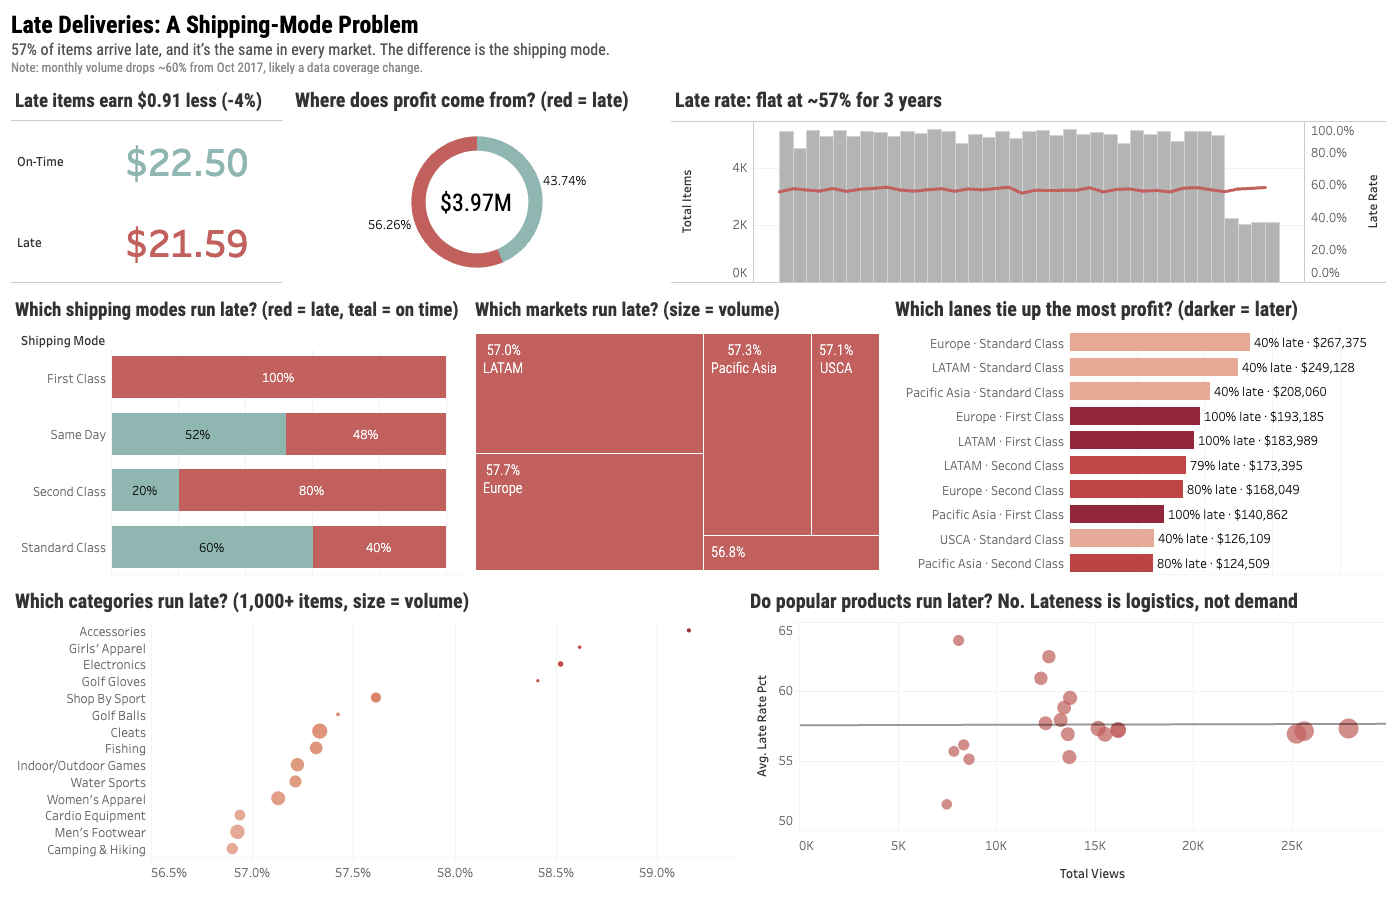

The dashboard page shown, as its layout file describes it:
{"tool":"tableau","page":{"name":"Dashboard 1","canvas":[1400,900],"ordinal":0},"visuals":[{"type":"text","box":[8,8,1384,71]},{"type":"worksheet","title":"Q6","mark":"Automatic","rows":["is_late"],"box":[8,79,280,209]},{"type":"worksheet","title":"Q5","mark":"Pie","rows":["Calculation_0014771826085929","Calculation_0014771826106411"],"box":[288,79,380,209]},{"type":"worksheet","title":"Q1","mark":"Bar","rows":["total_items","Calculation_0014290507743334"],"cols":["Calculation_0014290507997287"],"box":[668,79,724,209]},{"type":"text","box":[427,189,100,30]},{"type":"worksheet","title":"Q2","mark":"Automatic","rows":["shipping_mode"],"box":[8,288,460,292]},{"type":"worksheet","title":"Q3","mark":"Automatic","box":[468,288,420,292]},{"type":"worksheet","title":"Q7","mark":"Automatic","rows":["Calculation_0014771829272625"],"cols":["profit_tied_up_in_late_orders"],"box":[888,288,504,292]},{"type":"worksheet","title":"Q4","mark":"Circle","rows":["Calculation_0014771824574503"],"cols":["Calculation_0014771824435238"],"box":[8,580,735.5,312]},{"type":"worksheet","title":"Q8","mark":"Circle","rows":["late_rate_pct"],"cols":["total_views"],"box":[743.5,580,648.5,312]}]}

Visuals, with their boxes in screenshot pixels (x1, y1, x2, y2), scaled from the page's 1400x900 canvas onto the 1398x898 screenshot:
text: (8, 8, 1390, 79)
"Q6" worksheet: (8, 79, 288, 287)
"Q5" worksheet (Pie marks): (288, 79, 667, 287)
"Q1" worksheet (Bar marks): (667, 79, 1390, 287)
text: (426, 189, 526, 219)
"Q2" worksheet: (8, 287, 467, 579)
"Q3" worksheet: (467, 287, 887, 579)
"Q7" worksheet: (887, 287, 1390, 579)
"Q4" worksheet (Circle marks): (8, 579, 742, 890)
"Q8" worksheet (Circle marks): (742, 579, 1390, 890)
